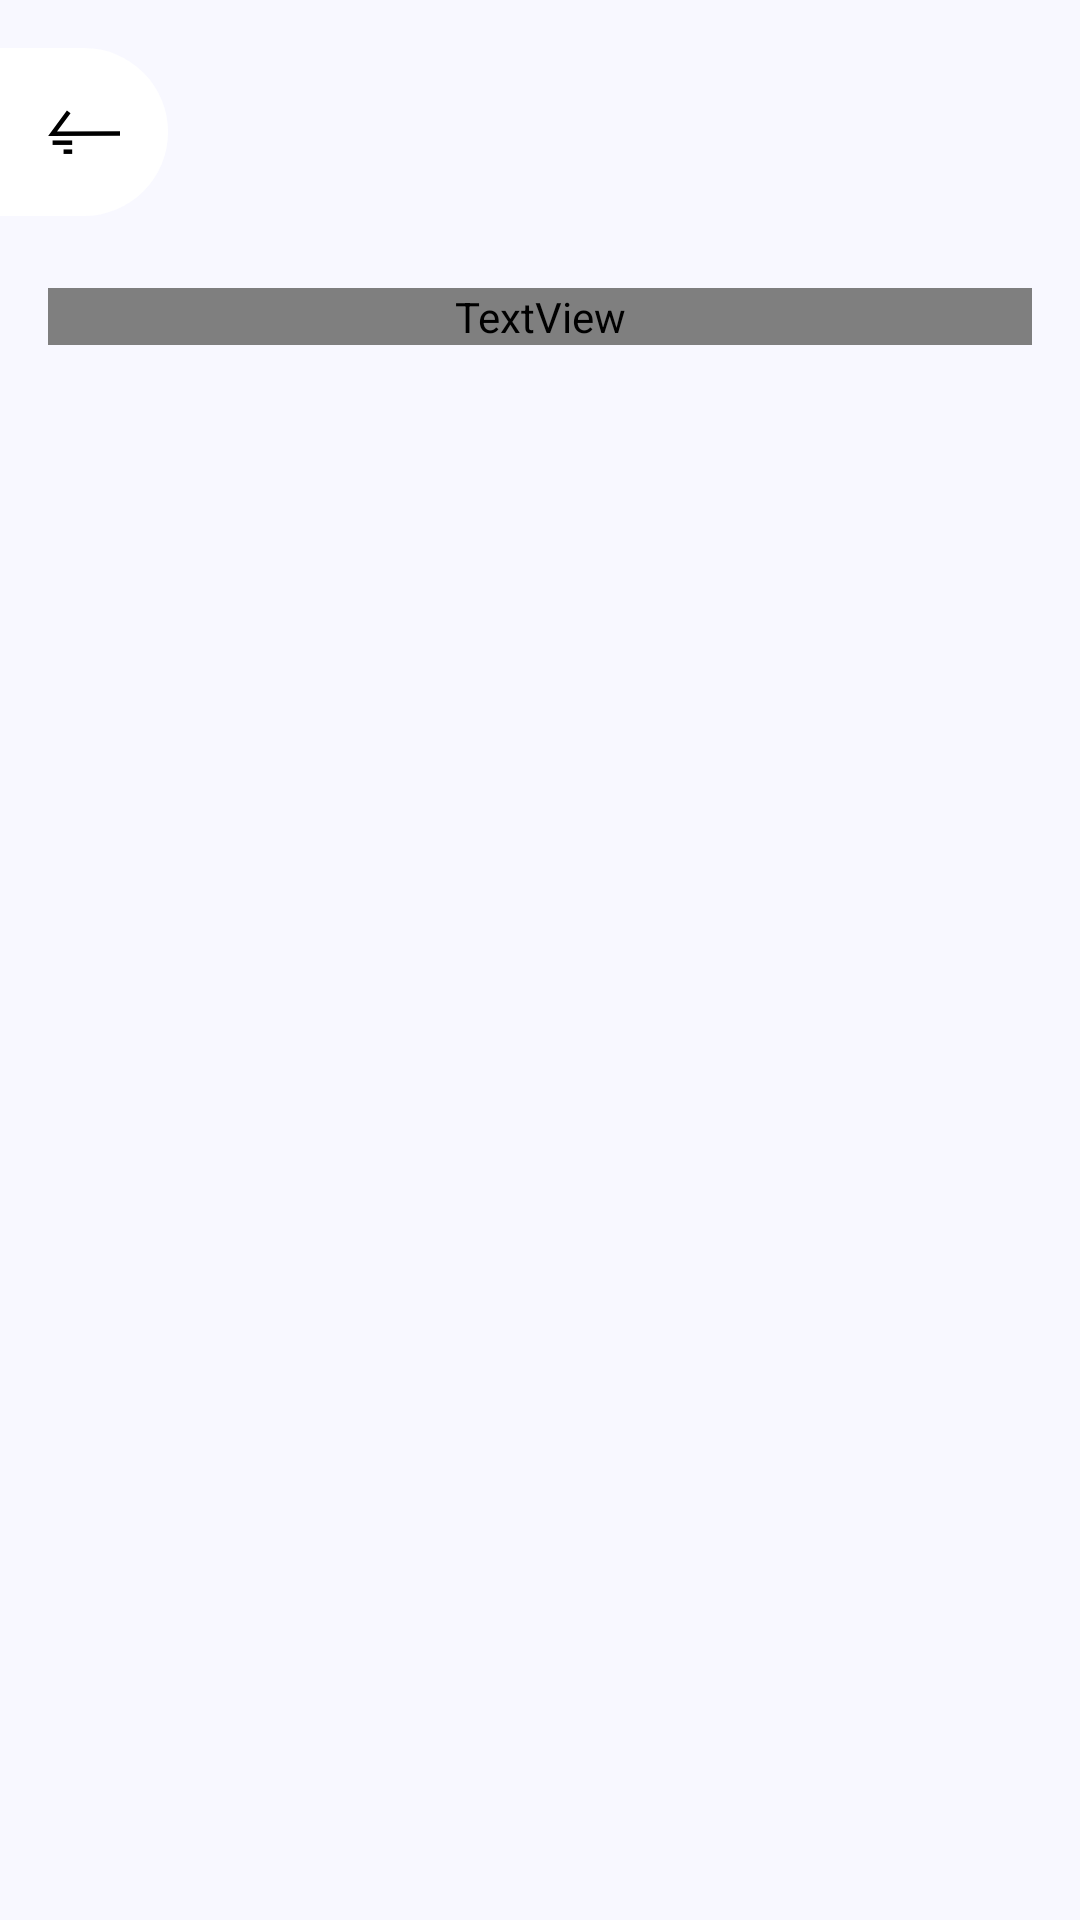

Icons on this 1080 x 1920 Android screen, each with the point to tap as point (x, y):
back: point (84, 132)
